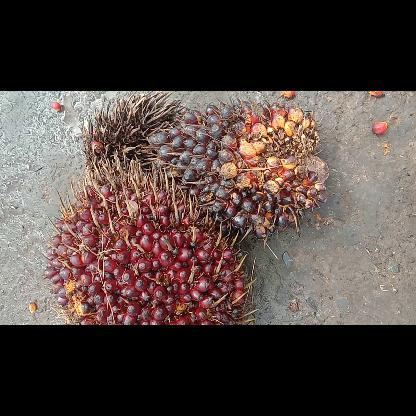Janjang kosong: (81, 91, 184, 173)
TBS masak: (44, 148, 256, 324)
TBS mentah: (151, 97, 329, 247)
